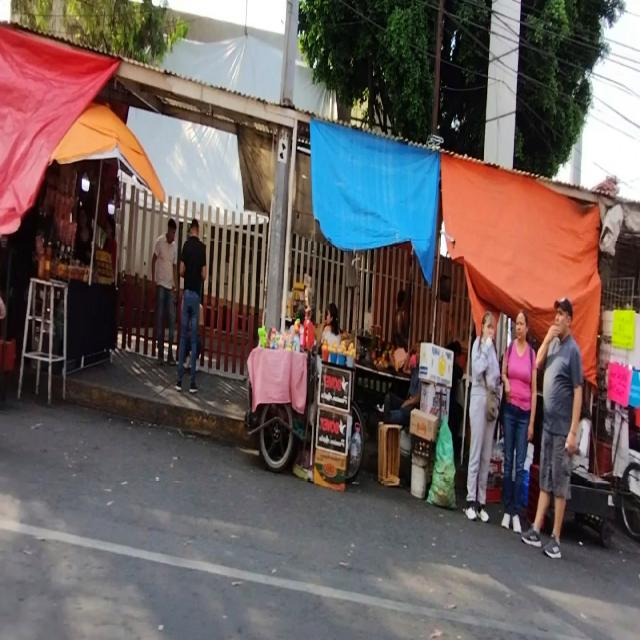adult: (521, 298, 581, 553), (500, 306, 537, 530), (464, 311, 501, 521), (176, 216, 207, 392), (151, 219, 178, 368)
